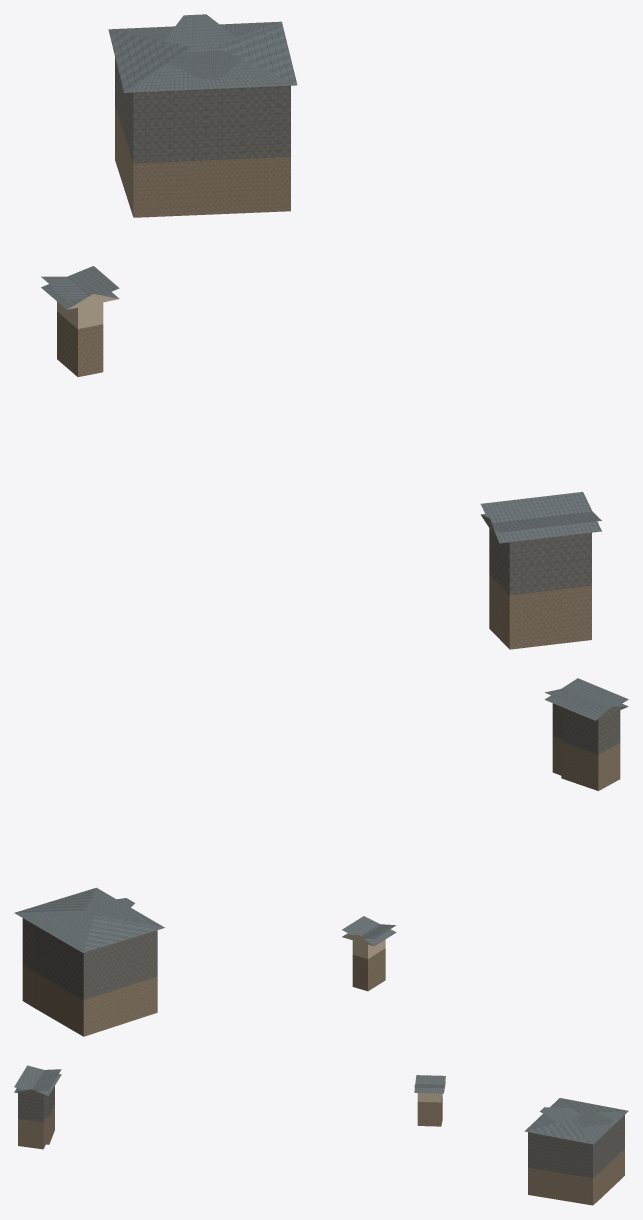
File: bld_c35_-28_451.gltf
3 views of the same model, one above another, from view 1: azimuth 30°, elevation 25°; view 2: azimuth 150°, elevation 25°; view 3: azimuth 270°, elevation 25° (orthographic). The views are drawn at different scales.
Visible parts, largest first — view 1: bld_c35_-28_451; view 2: bld_c35_-28_451; view 3: bld_c35_-28_451.
Boxes of the visible parts, x1,y1,x2,y2 form: bld_c35_-28_451: [41, 14, 601, 649]; bld_c35_-28_451: [14, 678, 628, 1036]; bld_c35_-28_451: [14, 1065, 628, 1205].
Size of the model in its own units: 38.44 by 13.7 by 104.
Materials: 6 (6 with a texture image).
